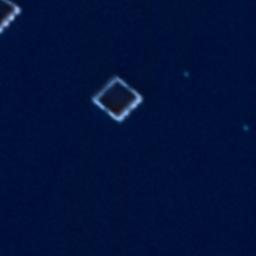square_solid: (85, 72, 147, 128), (1, 1, 23, 39)
